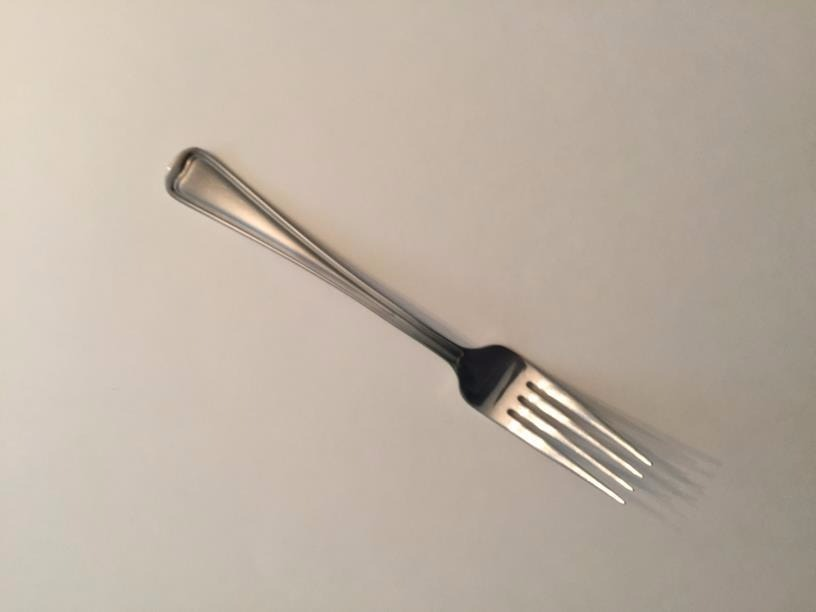fork: (154, 130, 669, 516)
